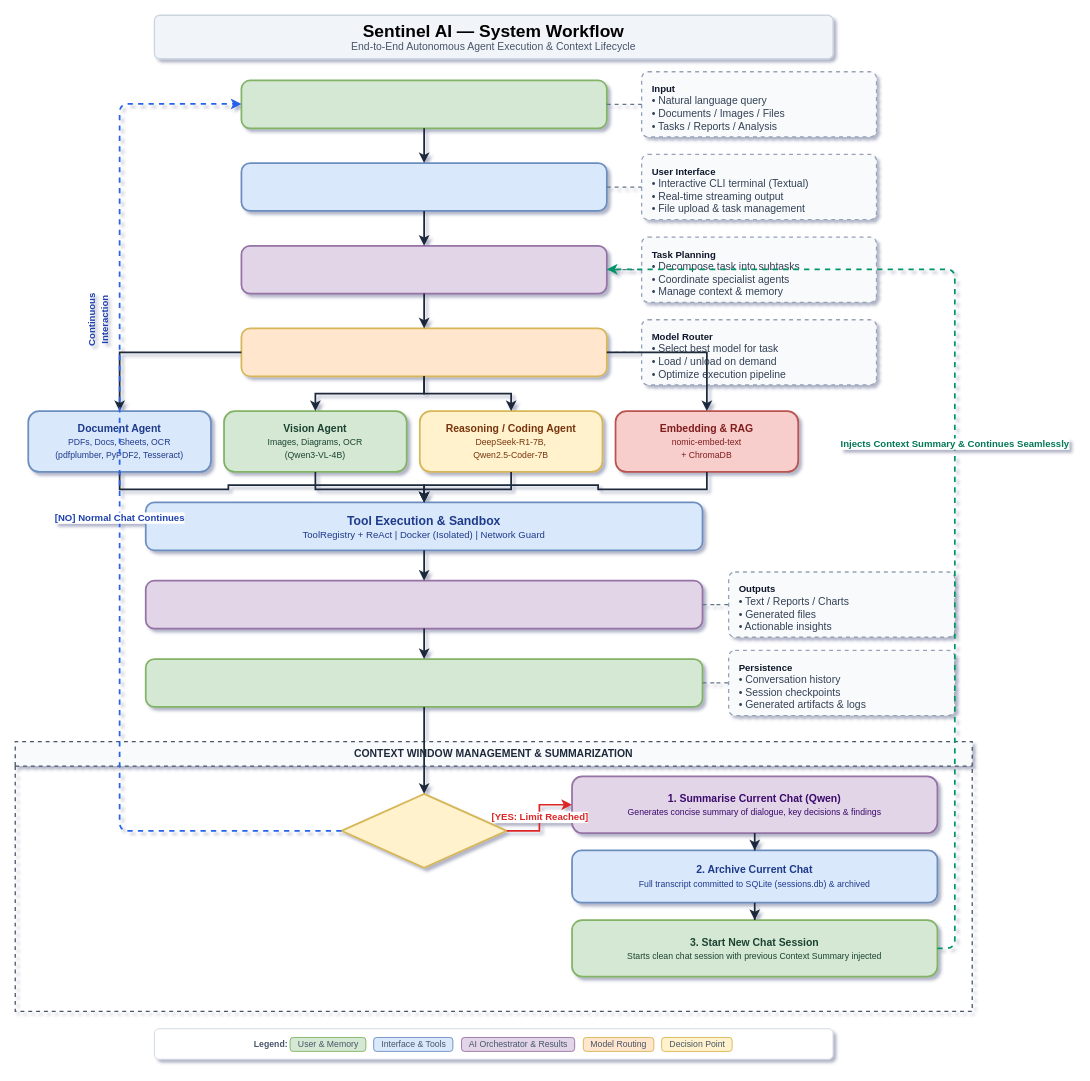
Image size: 1090x1081. Some labels were removed from this diagram. Here are the shapes that lost their labels. From the top down, the centre of each, then its label:
(x=423, y=104): User Engineer / Operator / Technical Staff
(x=423, y=186): CLI Workbench (TUI) Built with Python + Textual + Rich
(x=423, y=269): AI Orchestrator (Qwen) Custom MasterAgent (Asyncio) · Qwen Model
(x=423, y=352): Task Understanding & Routing YAML Model Registry · Ollama Backend
(x=423, y=604): Result Generation Answer, Analysis, Report, Charts, Files
(x=423, y=682): Workspace & Memory SQLite (sessions.db) + ChromaDB + Local File System
(x=423, y=830): Context Limit Reached?
